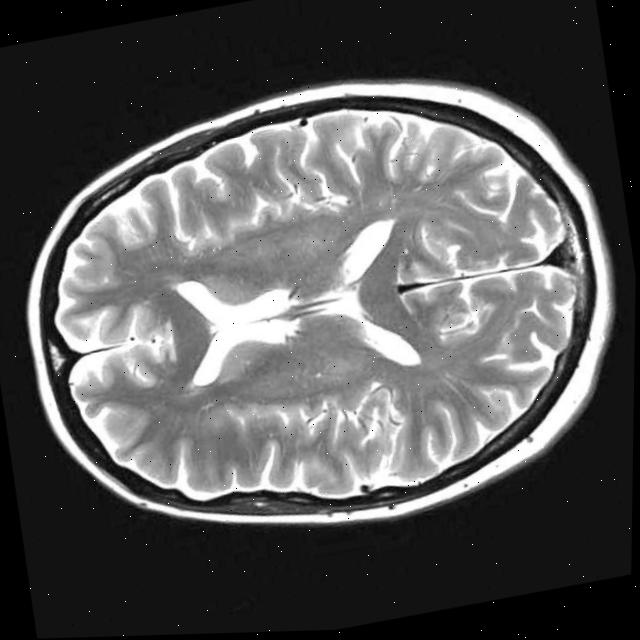NoTumor: (0, 32, 639, 585)
